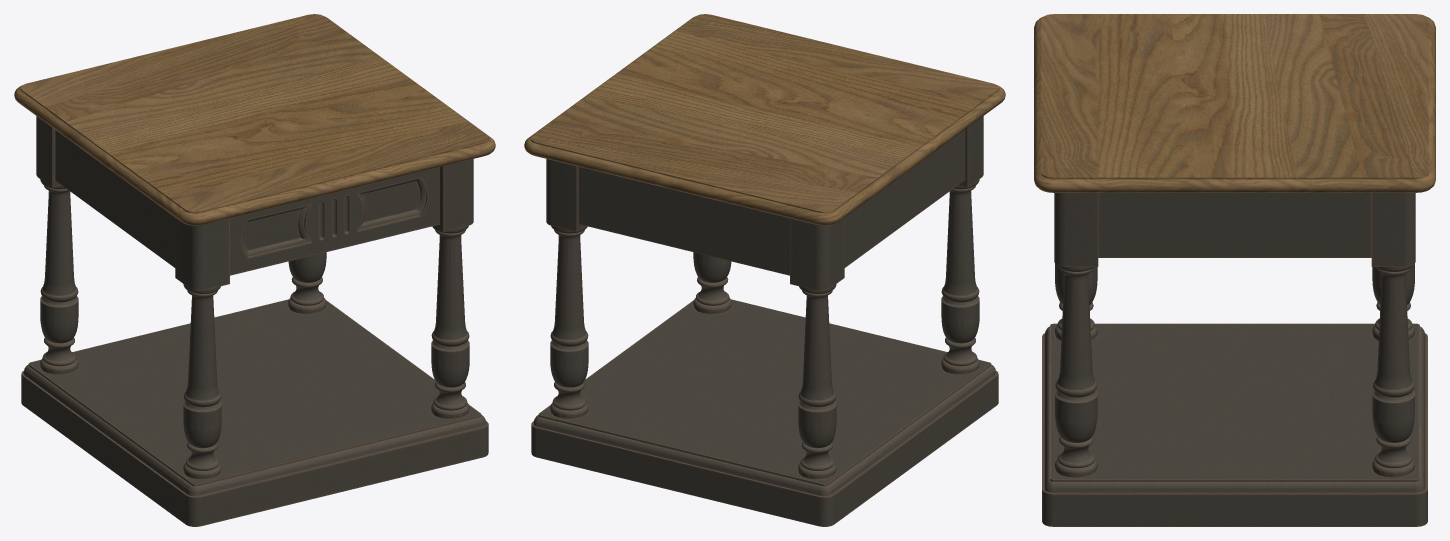
Rendered from example155.glb.
3 renders of one model, left to right at view 1: azimuth 30°, elevation 25°; view 2: azimuth 150°, elevation 25°; view 3: azimuth 270°, elevation 25°, orthographic. The views are drawn at different scales.
Visible parts, largest first — view 1: Buffer Layer (×2); view 2: Buffer Layer (×2); view 3: Buffer Layer (×2).
Part boxes in pixels (<box>): Buffer Layer (×2): <box>14,14,495,526</box>; Buffer Layer (×2): <box>524,14,1005,526</box>; Buffer Layer (×2): <box>1034,14,1435,526</box>.
Bounding box in the file's own units: 0.65 × 0.624 × 0.65.
2 materials, 2 textured.
